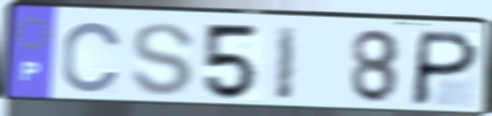5: (199, 21, 269, 102)
8: (348, 26, 403, 106)
C: (59, 19, 125, 96)
I: (273, 23, 302, 103)
P: (407, 28, 483, 109)
S: (128, 20, 198, 99)
